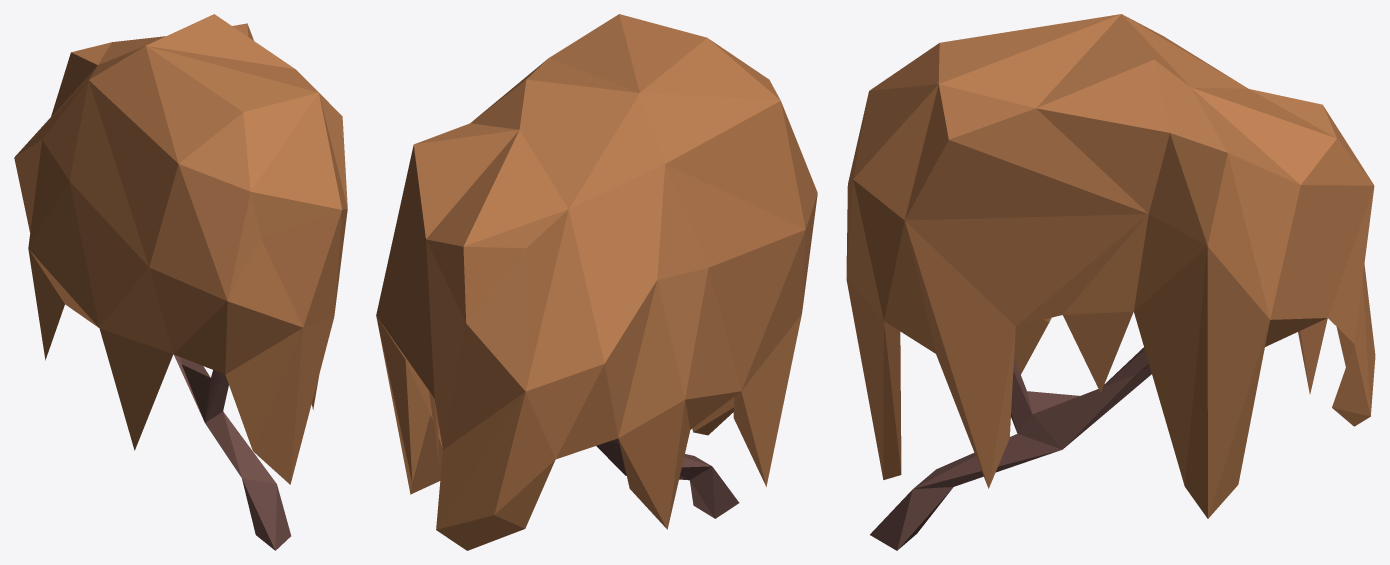
File: Willow_Autumn_2.lod3.glb
3 views of the same model, side by side, from view 1: azimuth 30°, elevation 25°; view 2: azimuth 150°, elevation 25°; view 3: azimuth 270°, elevation 25° (orthographic). The views are drawn at different scales.
Parts seen in each view (by area): view 1: Willow_Autumn_2; view 2: Willow_Autumn_2; view 3: Willow_Autumn_2.
Boxes of the visible parts, x1,y1,x2,y2 form: Willow_Autumn_2: (14,14,347,550); Willow_Autumn_2: (376,14,817,550); Willow_Autumn_2: (846,14,1375,550).
Bounding box in the file's own units: 1.94 × 3.29 × 3.1.
